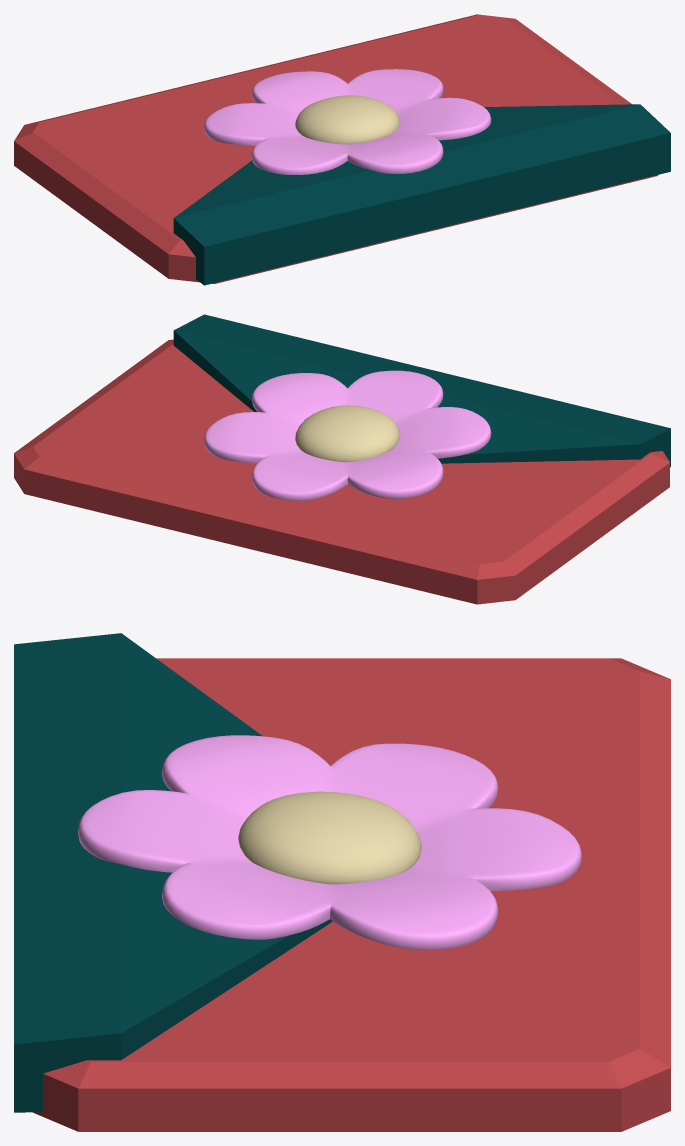
Rendered from DecorativeLetter.fbx.
3 views of the same model, one above another, from view 1: azimuth 30°, elevation 25°; view 2: azimuth 150°, elevation 25°; view 3: azimuth 270°, elevation 25° (orthographic). The views are drawn at different scales.
Visible parts, largest first — view 1: Letter; view 2: Letter; view 3: Letter.
Part boxes in pixels (x1=…): Letter: x1=14, y1=14, x2=670, y2=285; Letter: x1=14, y1=314, x2=670, y2=604; Letter: x1=14, y1=633, x2=670, y2=1131.
Bounding box in the file's own units: 4839 × 564 × 3124.
